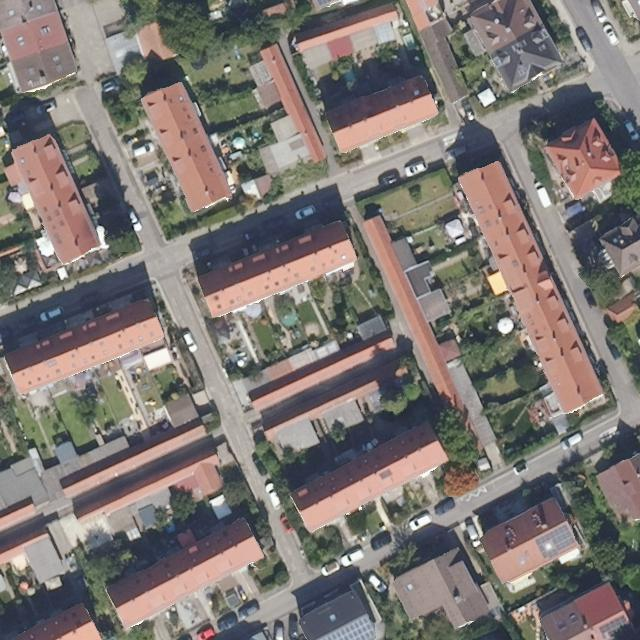PV: (534, 523, 577, 560), (318, 616, 376, 639), (597, 613, 632, 639), (378, 467, 394, 481)
